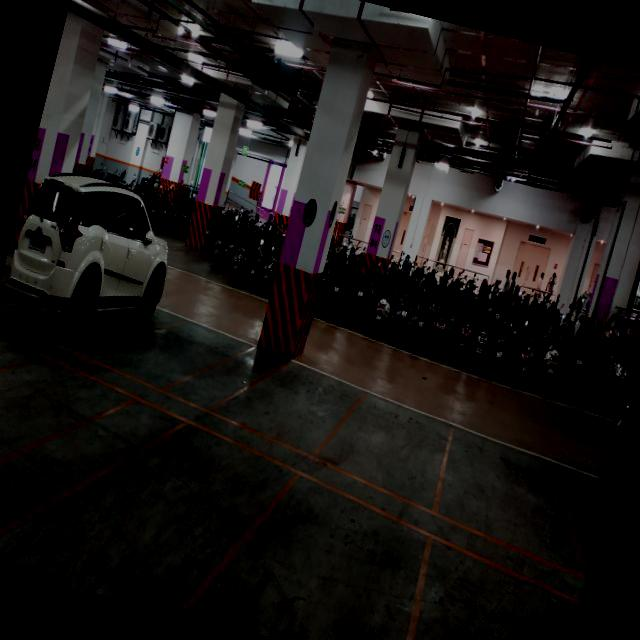car: (18, 216, 146, 337)
free: (68, 452, 222, 614), (250, 499, 412, 640), (444, 407, 584, 553), (421, 544, 564, 640), (335, 374, 442, 502), (234, 348, 342, 458), (0, 342, 71, 464), (126, 300, 203, 394)
